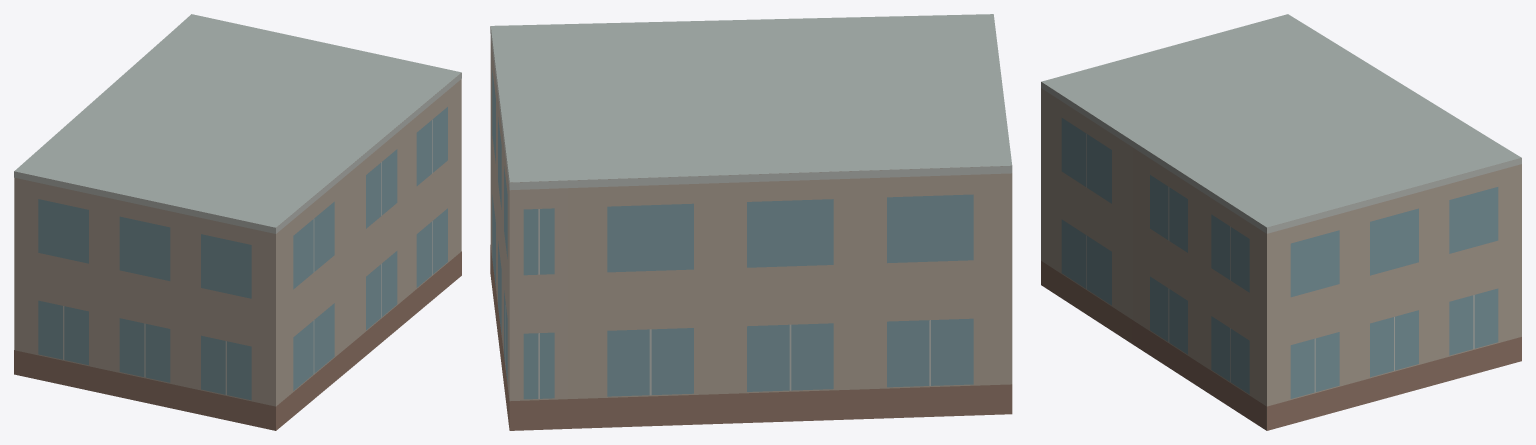
Rendered from survey-upis-32614518.glb.
3 views of the same model, side by side, from view 1: azimuth 30°, elevation 25°; view 2: azimuth 150°, elevation 25°; view 3: azimuth 270°, elevation 25° (orthographic). The views are drawn at different scales.
Visible parts, largest first — view 1: survey-upis-32614518.tmp; view 2: survey-upis-32614518.tmp; view 3: survey-upis-32614518.tmp.
Boxes of the visible parts, x1=… form: survey-upis-32614518.tmp: x1=14, y1=14, x2=461, y2=430; survey-upis-32614518.tmp: x1=490, y1=14, x2=1012, y2=430; survey-upis-32614518.tmp: x1=1041, y1=14, x2=1521, y2=430.
Bounding box in the file's own units: 17.69 × 7.85 × 16.83.
